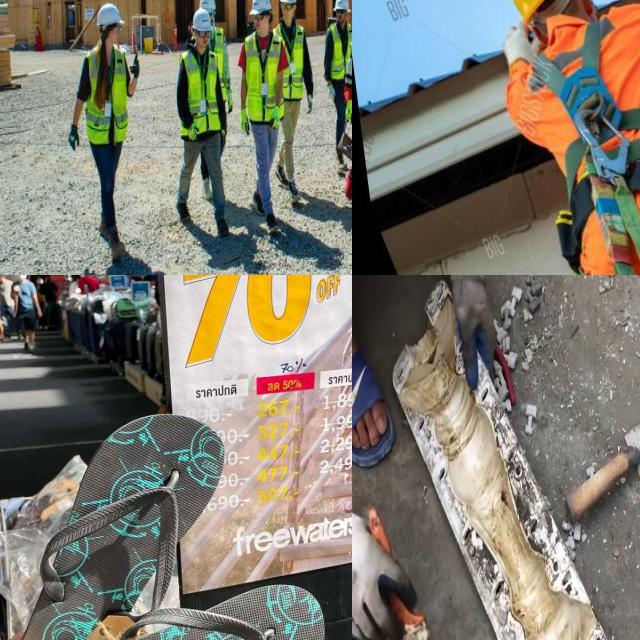Harness: (529, 18, 640, 238)
Sandals: (0, 406, 344, 640), (352, 310, 393, 469)
glasses: (195, 27, 213, 42), (251, 11, 265, 25), (280, 0, 295, 13)
hand_glove: (352, 488, 414, 640), (452, 275, 493, 391), (68, 120, 86, 156), (300, 84, 316, 121), (182, 118, 198, 154), (128, 53, 144, 84), (239, 110, 252, 142), (267, 104, 280, 135), (341, 96, 352, 126)
head_helmet: (95, 1, 125, 28), (192, 7, 212, 32), (248, 0, 272, 18), (198, 0, 217, 14), (334, 0, 350, 13), (277, 0, 296, 6)
person: (72, 2, 140, 261), (177, 10, 234, 245), (239, 0, 285, 236), (275, 0, 315, 206), (325, 0, 352, 173), (200, 0, 234, 102)
shoes: (106, 227, 126, 266), (273, 162, 291, 193), (213, 211, 231, 241), (263, 209, 281, 239), (175, 199, 193, 228), (286, 174, 302, 204), (253, 187, 263, 217)
vest: (82, 38, 130, 144), (180, 54, 227, 144), (242, 28, 286, 124), (275, 18, 305, 101), (326, 20, 352, 80)
